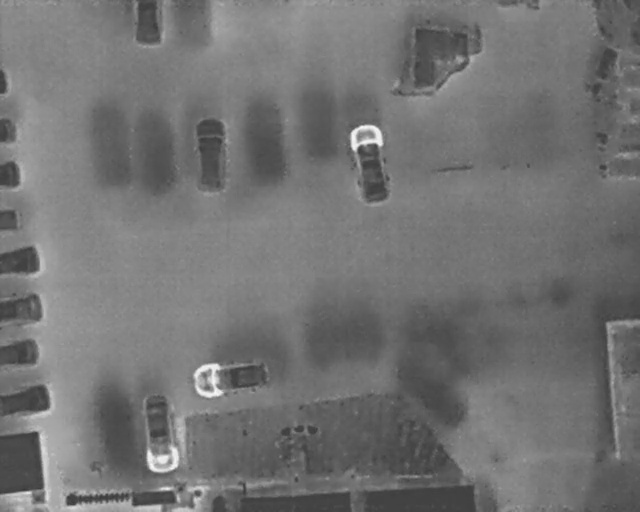Car: (344, 121, 396, 206), (138, 391, 183, 473), (192, 355, 272, 400), (195, 117, 228, 192), (0, 384, 52, 418), (130, 0, 163, 47), (0, 292, 44, 327), (0, 244, 41, 277), (0, 337, 39, 366), (1, 159, 21, 189), (0, 116, 16, 144), (0, 66, 9, 96)
